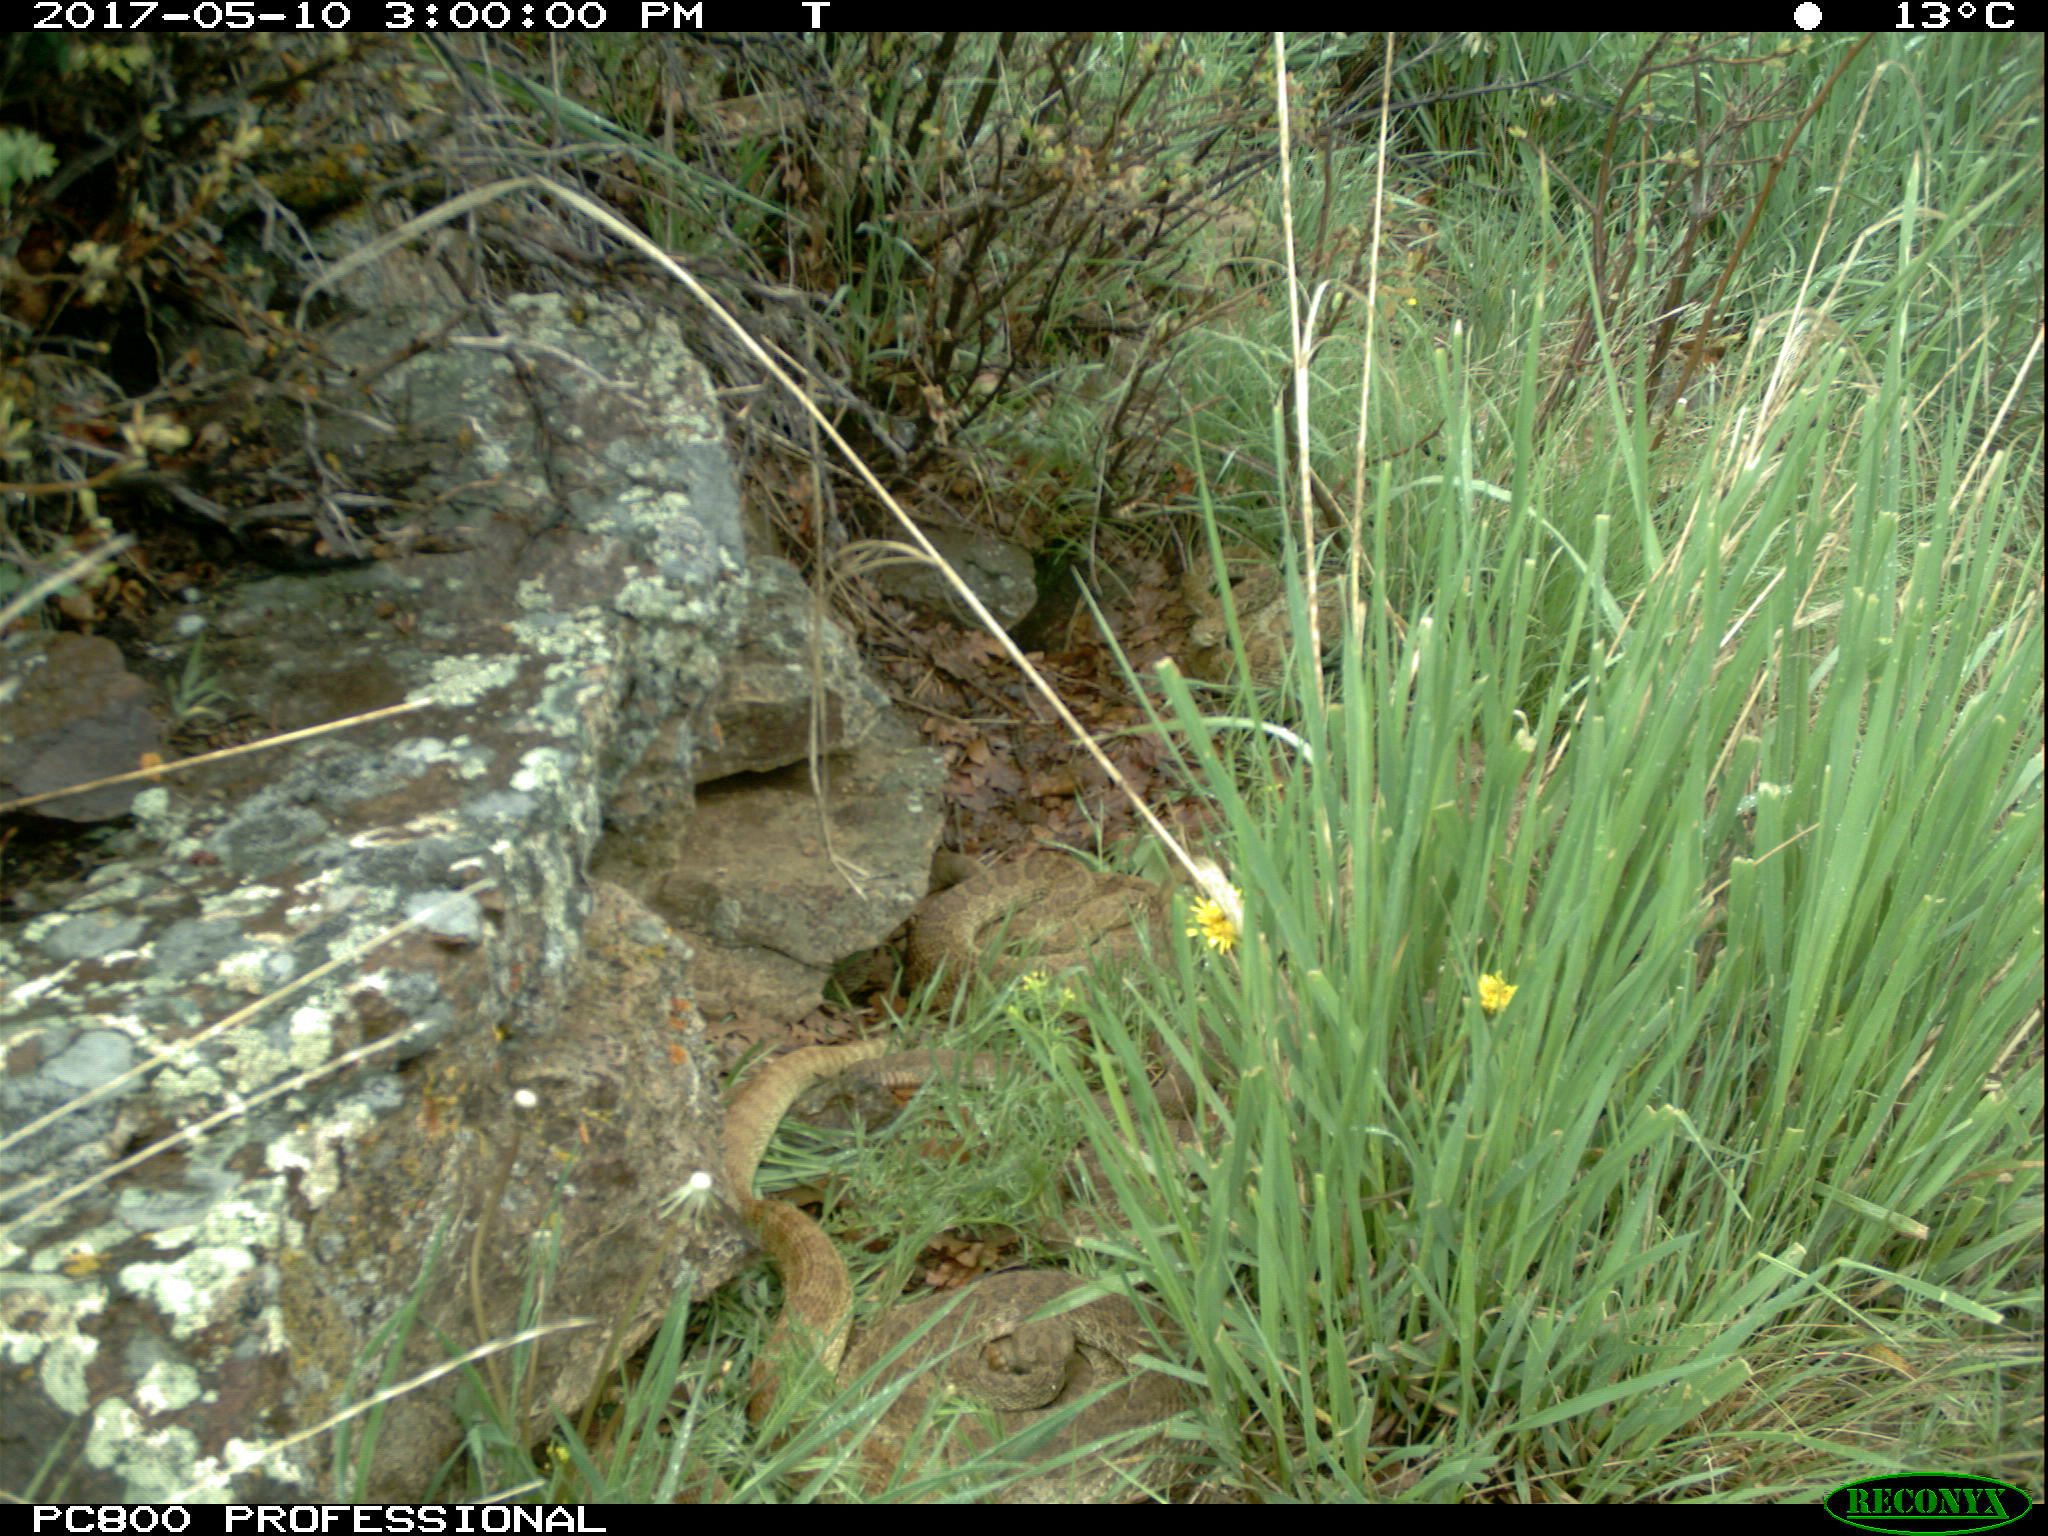snake: (830, 1267, 1200, 1502), (713, 1037, 882, 1446), (901, 849, 1171, 1018), (1130, 1037, 1295, 1204), (1182, 542, 1358, 691), (785, 1044, 1039, 1115), (547, 1442, 734, 1502)
